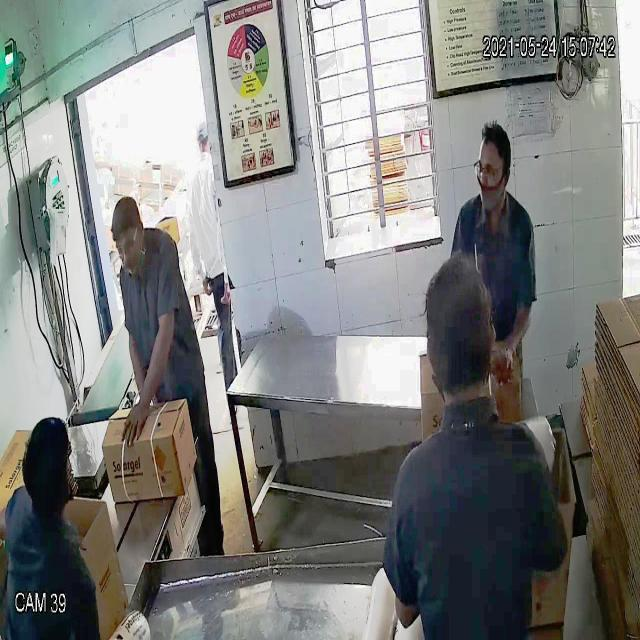glasses: (471, 152, 506, 187), (110, 226, 146, 260)
